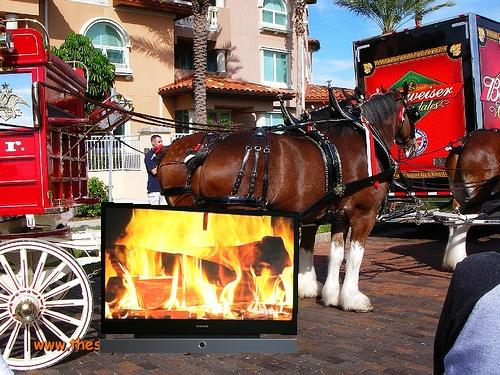tampered: (100, 203, 299, 353)
